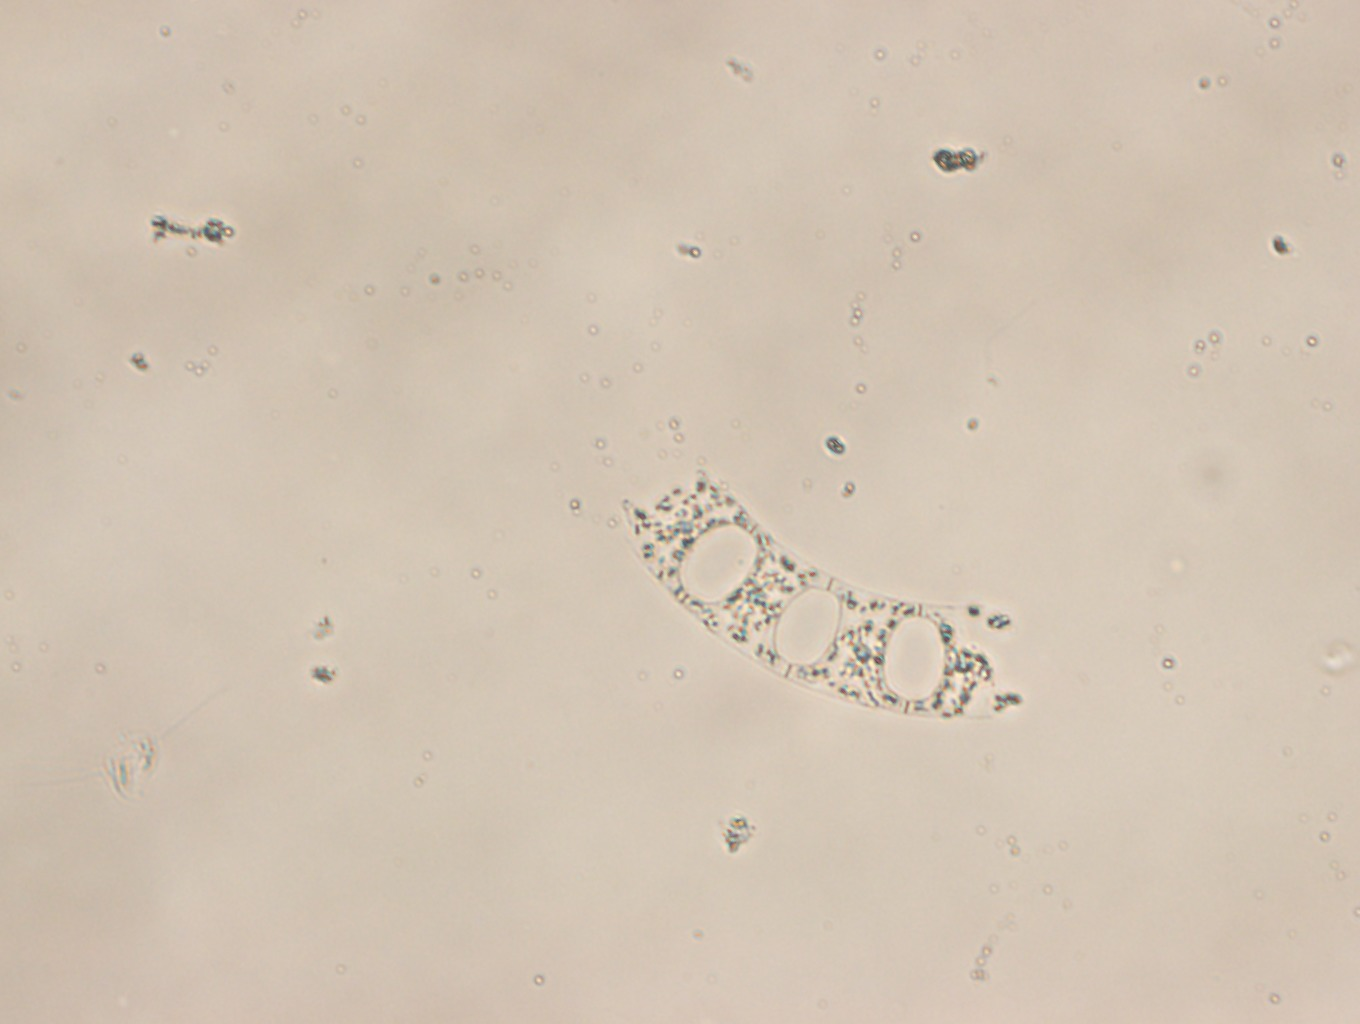eucampia: (618, 466, 996, 723)
